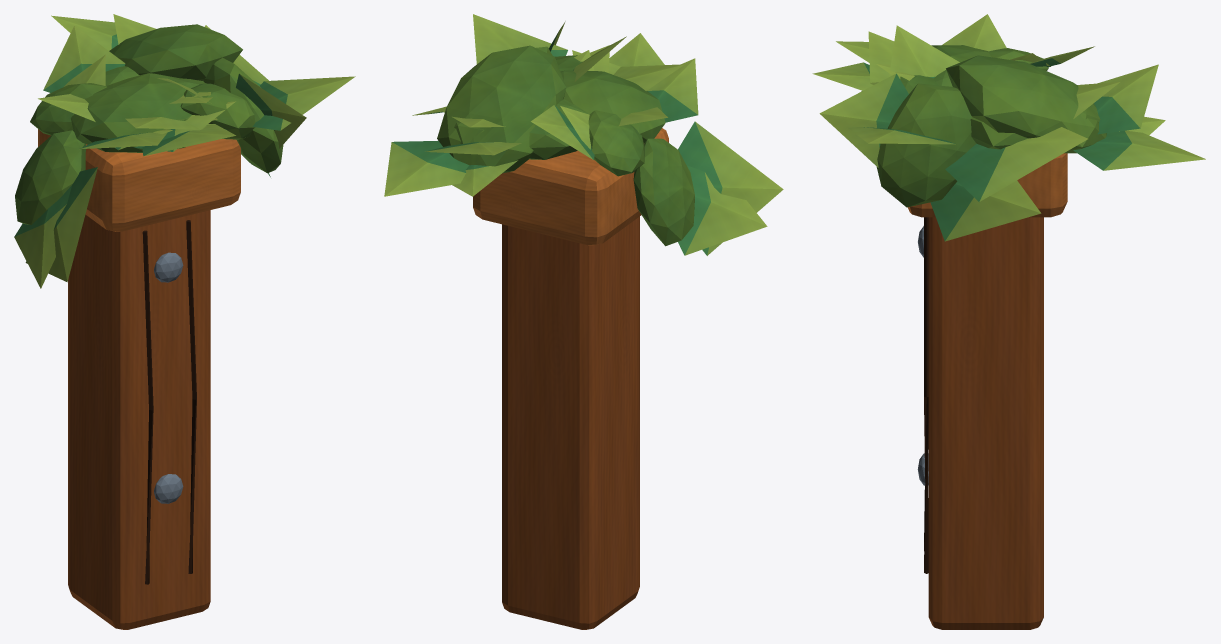
Rendered from forest_bridge_post.glb.
The picture shows the model from 3 angles, left to right: view 1: azimuth 30°, elevation 25°; view 2: azimuth 150°, elevation 25°; view 3: azimuth 270°, elevation 25°; orthographic projection. The views are drawn at different scales.
Parts seen in each view (by area): view 1: Bridge rail upright, Bridge post cap, Woodland shared moss cushion.061, Woodland shared moss cushion.054, Woodland shared moss cushion.055, Woodland shared moss cushion.059, Woodland shared curved ivy leaf.143, Woodland shared curved ivy leaf.158, Woodland shared curved ivy leaf.144, Woodland shared moss cushion.056, Woodland shared curved ivy leaf.154, Bridge post fine grain (+13 smaller); view 2: Bridge rail upright, Bridge post cap, Woodland shared moss cushion.054, Woodland shared moss cushion.055, Woodland shared curved ivy leaf.143, Woodland shared curved ivy leaf.144, Woodland shared moss cushion.061, Woodland shared curved ivy leaf.141, Woodland shared moss cushion.060, Woodland shared curved ivy leaf.161, Woodland shared curved ivy leaf.158, Woodland shared moss cushion.058 (+6 smaller); view 3: Bridge rail upright, Woodland shared moss cushion.054, Woodland shared moss cushion.059, Woodland shared curved ivy leaf.145, Woodland shared curved ivy leaf.151, Woodland shared curved ivy leaf.152, Woodland shared curved ivy leaf.141, Woodland shared curved ivy leaf.159, Bridge post cap, Woodland shared curved ivy leaf.146, Bridge post fine grain.001, Woodland shared curved ivy leaf.148 (+6 smaller).
Boxes of the visible parts, x1=… form: Bridge rail upright: x1=68, y1=210, x2=210, y2=629; Bridge post cap: x1=38, y1=129, x2=240, y2=231; Woodland shared moss cushion.061: x1=71, y1=73, x2=205, y2=152; Woodland shared moss cushion.054: x1=109, y1=24, x2=242, y2=80; Woodland shared moss cushion.055: x1=15, y1=130, x2=85, y2=224; Woodland shared moss cushion.059: x1=203, y1=57, x2=283, y2=173; Woodland shared curved ivy leaf.143: x1=25, y1=167, x2=97, y2=282; Woodland shared curved ivy leaf.158: x1=252, y1=76, x2=355, y2=130; Woodland shared curved ivy leaf.144: x1=14, y1=185, x2=71, y2=288; Woodland shared moss cushion.056: x1=180, y1=83, x2=255, y2=139; Woodland shared curved ivy leaf.154: x1=43, y1=25, x2=125, y2=92; Bridge post fine grain: x1=142, y1=230, x2=153, y2=584; Bridge rail upright: x1=502, y1=216, x2=639, y2=629; Bridge post cap: x1=473, y1=128, x2=668, y2=245; Woodland shared moss cushion.054: x1=437, y1=45, x2=566, y2=173; Woodland shared moss cushion.055: x1=633, y1=138, x2=694, y2=246; Woodland shared curved ivy leaf.143: x1=678, y1=121, x2=783, y2=255; Woodland shared curved ivy leaf.144: x1=678, y1=165, x2=767, y2=255; Woodland shared moss cushion.061: x1=560, y1=70, x2=665, y2=143; Woodland shared curved ivy leaf.141: x1=384, y1=140, x2=469, y2=196; Woodland shared moss cushion.060: x1=588, y1=110, x2=644, y2=176; Woodland shared curved ivy leaf.161: x1=647, y1=58, x2=698, y2=122; Woodland shared curved ivy leaf.158: x1=473, y1=14, x2=567, y2=64; Woodland shared moss cushion.058: x1=528, y1=99, x2=587, y2=159; Bridge rail upright: x1=928, y1=217, x2=1043, y2=629; Woodland shared moss cushion.054: x1=946, y1=55, x2=1106, y2=153; Woodland shared moss cushion.059: x1=876, y1=83, x2=976, y2=207; Woodland shared curved ivy leaf.145: x1=945, y1=127, x2=1087, y2=201; Woodland shared curved ivy leaf.151: x1=930, y1=180, x2=1041, y2=241; Woodland shared curved ivy leaf.152: x1=819, y1=73, x2=908, y2=167; Woodland shared curved ivy leaf.141: x1=1073, y1=130, x2=1205, y2=170; Woodland shared curved ivy leaf.159: x1=1094, y1=64, x2=1158, y2=134; Bridge post cap: x1=907, y1=153, x2=1067, y2=217; Woodland shared curved ivy leaf.146: x1=889, y1=25, x2=959, y2=78; Bridge post fine grain.001: x1=924, y1=217, x2=928, y2=573; Woodland shared curved ivy leaf.148: x1=942, y1=14, x2=1006, y2=51.
Size of the model in its own units: 0.5425 by 0.9398 by 0.5811.
Materials: 7 (6 with a texture image).
